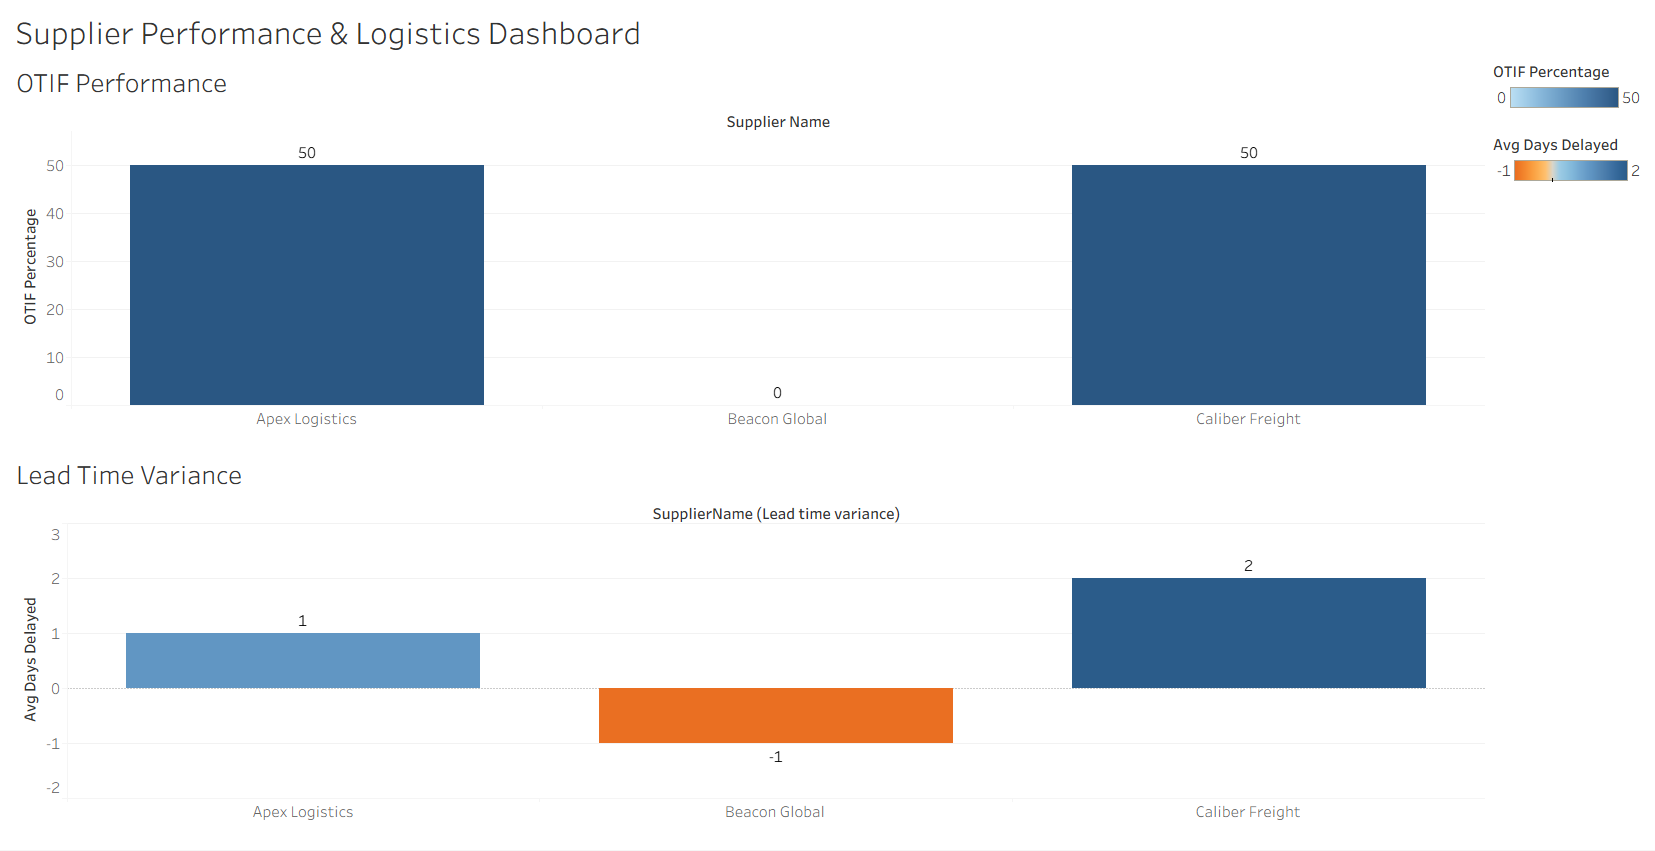

Layout of this report page (visuals, bound fields, positions):
{"tool":"tableau","page":{"name":"Supplier Performance & Logistics Dashboard","canvas":[1000,1000],"units":"permille","ordinal":0},"visuals":[{"type":"title","box":[4.8,9.4,990.3,58.8]},{"type":"worksheet","title":"OTIF Performance","mark":"Automatic","rows":["OTIF_Percentage"],"cols":["SupplierName"],"box":[4.8,68.2,893.8,461.2]},{"type":"legend","title":"OTIF Performance","param":"[federated.1xdvrny0xk6d7418fl3wq13a3fb9].[sum:OTIF_Percentage:qk]","box":[898.6,68.2,96.6,85.8]},{"type":"legend","title":"Lead Time Variance","param":"[federated.1xdvrny0xk6d7418fl3wq13a3fb9].[sum:AvgDaysDelayed:qk]","box":[898.6,153.9,96.6,85.8]},{"type":"worksheet","title":"Lead Time Variance","mark":"Automatic","rows":["AvgDaysDelayed"],"cols":["SupplierName (Lead time variance)"],"box":[4.8,529.4,893.8,461.2]}]}

Visuals, with their boxes on the dashboard's canvas, which has no fixed pixel size, in thousandths of its width and height (x1, y1, x2, y2). These are canvas units, not pixel positions in the 1655x851 screenshot, which may show the page scaled, cropped or inside an application window:
title: box(5, 9, 995, 68)
"OTIF Performance" worksheet: box(5, 68, 899, 529)
"OTIF Performance" legend: box(899, 68, 995, 154)
"Lead Time Variance" legend: box(899, 154, 995, 240)
"Lead Time Variance" worksheet: box(5, 529, 899, 991)
